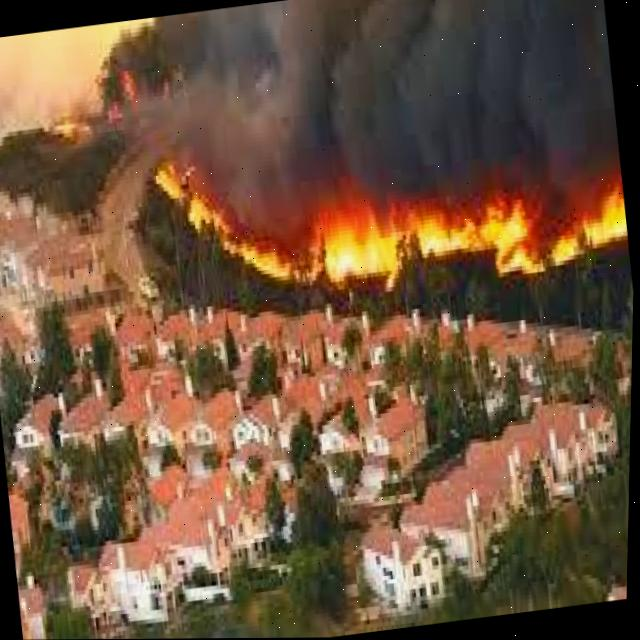smoke: (154, 0, 622, 231)
